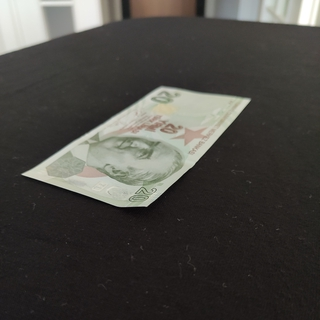20TLFront: (21, 84, 252, 206)
